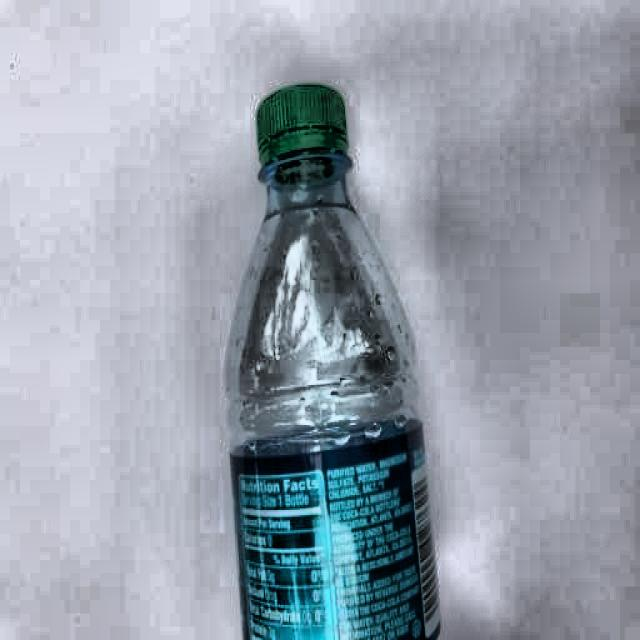plastic: (223, 82, 441, 640)
